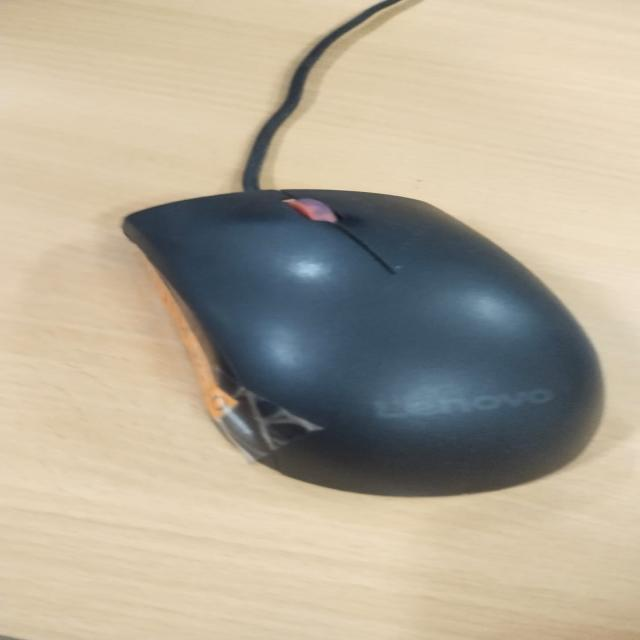mouse: (55, 163, 600, 493)
